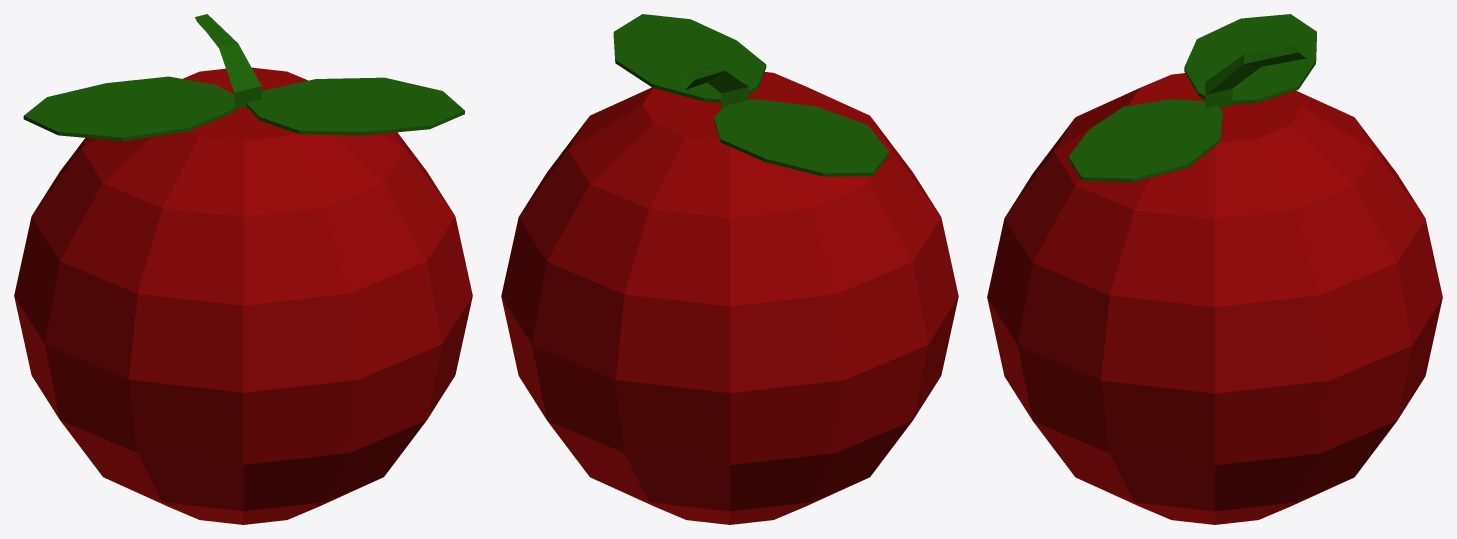
The model's file is apple3.obj.
The picture shows the model from 3 angles, left to right: view 1: azimuth 30°, elevation 25°; view 2: azimuth 150°, elevation 25°; view 3: azimuth 270°, elevation 25°; orthographic projection.
Parts seen in each view (by area): view 1: Sphere; view 2: Sphere; view 3: Sphere.
Part boxes in pixels (x1,y1,x2,y2): Sphere: (14, 14, 472, 524); Sphere: (501, 14, 958, 524); Sphere: (987, 14, 1442, 524).
Bounding box in the file's own units: 51.92 × 55.14 × 51.92.
